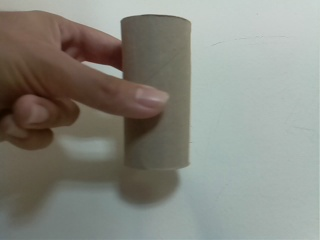rollo papel: (118, 11, 195, 174)
